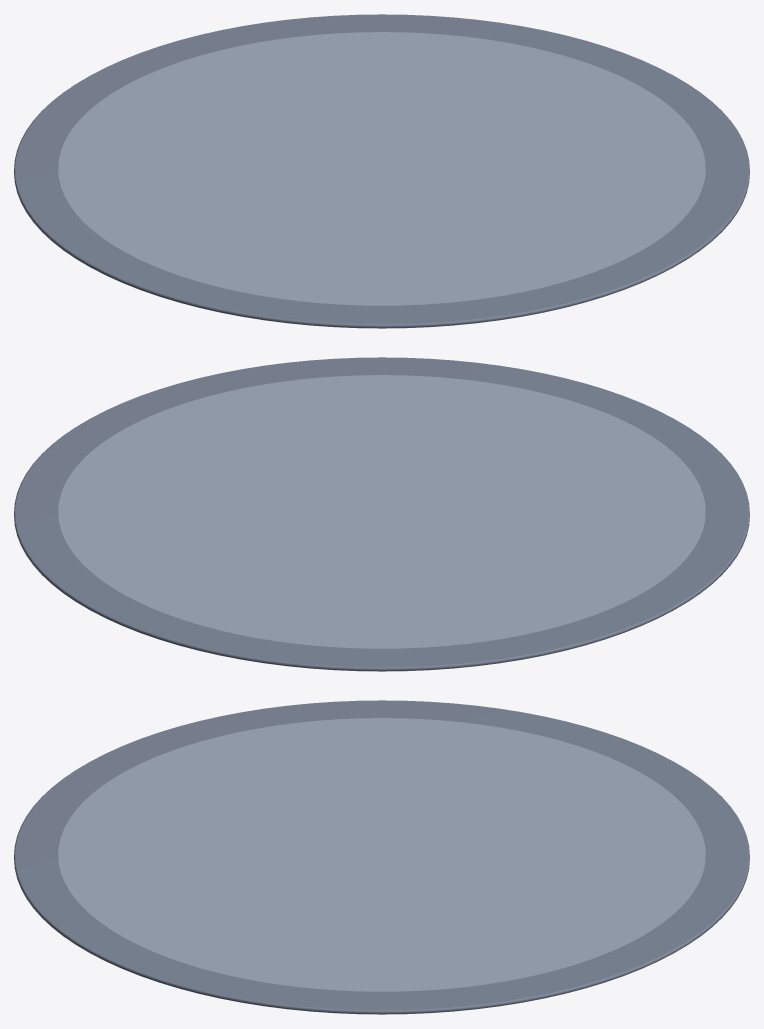
The model's file is round-rug-lite.glb.
The picture shows the model from 3 angles, top to bottom: view 1: azimuth 30°, elevation 25°; view 2: azimuth 150°, elevation 25°; view 3: azimuth 270°, elevation 25°; orthographic projection.
Visible parts, largest first — view 1: round-rug-inset, round-rug-border; view 2: round-rug-inset, round-rug-border; view 3: round-rug-inset, round-rug-border.
Part boxes in pixels (x1,y1,x2,y2): round-rug-inset: (58, 32, 705, 305); round-rug-border: (14, 14, 749, 328); round-rug-inset: (58, 375, 705, 648); round-rug-border: (14, 357, 749, 671); round-rug-inset: (58, 718, 705, 991); round-rug-border: (14, 700, 749, 1014).
Size of the model in its own units: 1.8 by 0.013 by 1.8.
